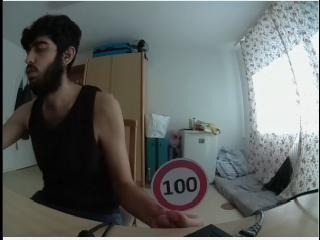Speedlimit_100: (152, 160, 206, 210)
